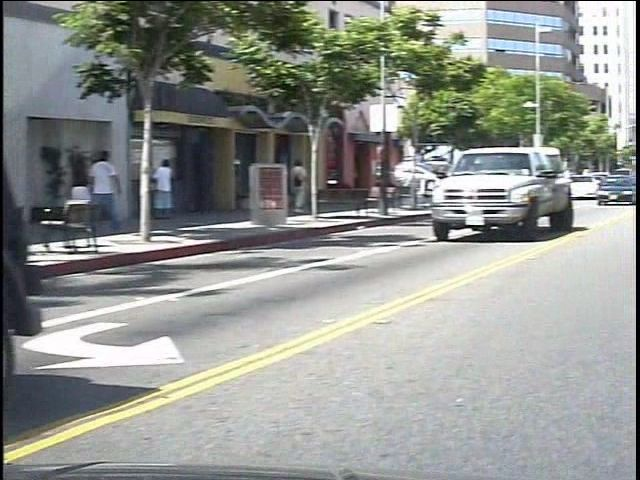person: (82, 148, 112, 238), (168, 147, 193, 228), (104, 145, 137, 204), (304, 157, 325, 218)
